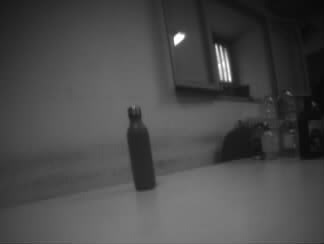Bottle: (126, 105, 158, 190), (280, 86, 300, 159), (259, 90, 280, 158)
